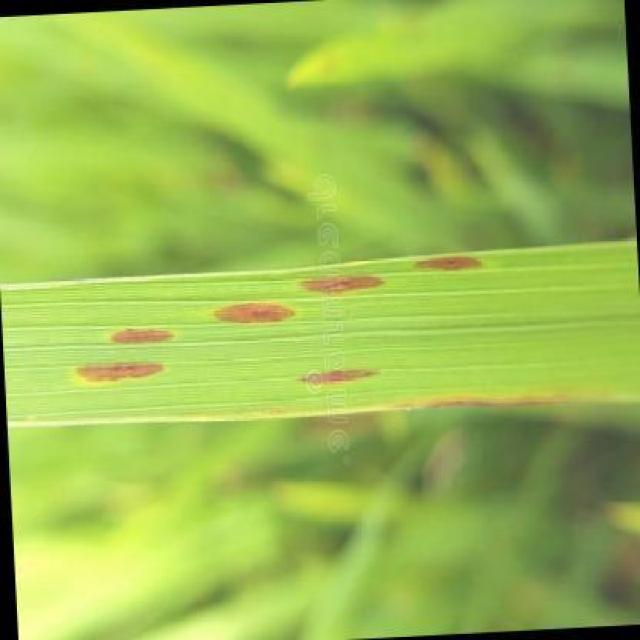Leaf_Blast: (428, 366, 562, 419), (200, 277, 302, 331), (294, 252, 392, 305), (64, 344, 170, 391), (295, 348, 382, 397), (93, 304, 182, 350), (408, 250, 498, 287)
